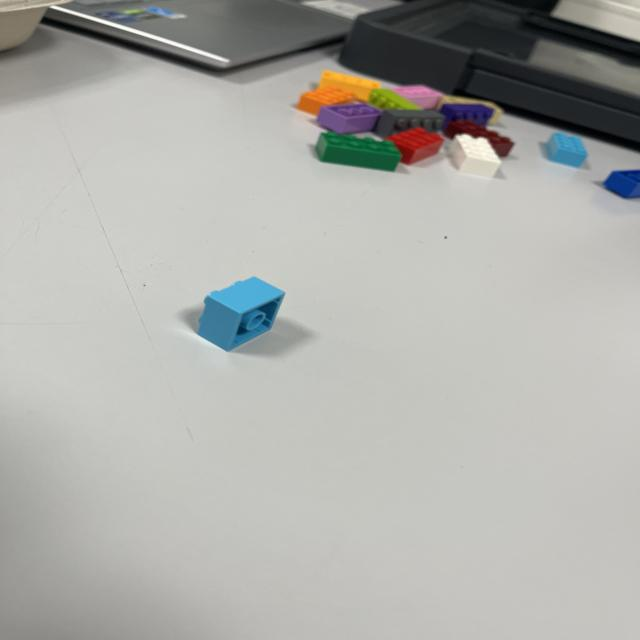C2x2x1: (192, 274, 290, 354)
